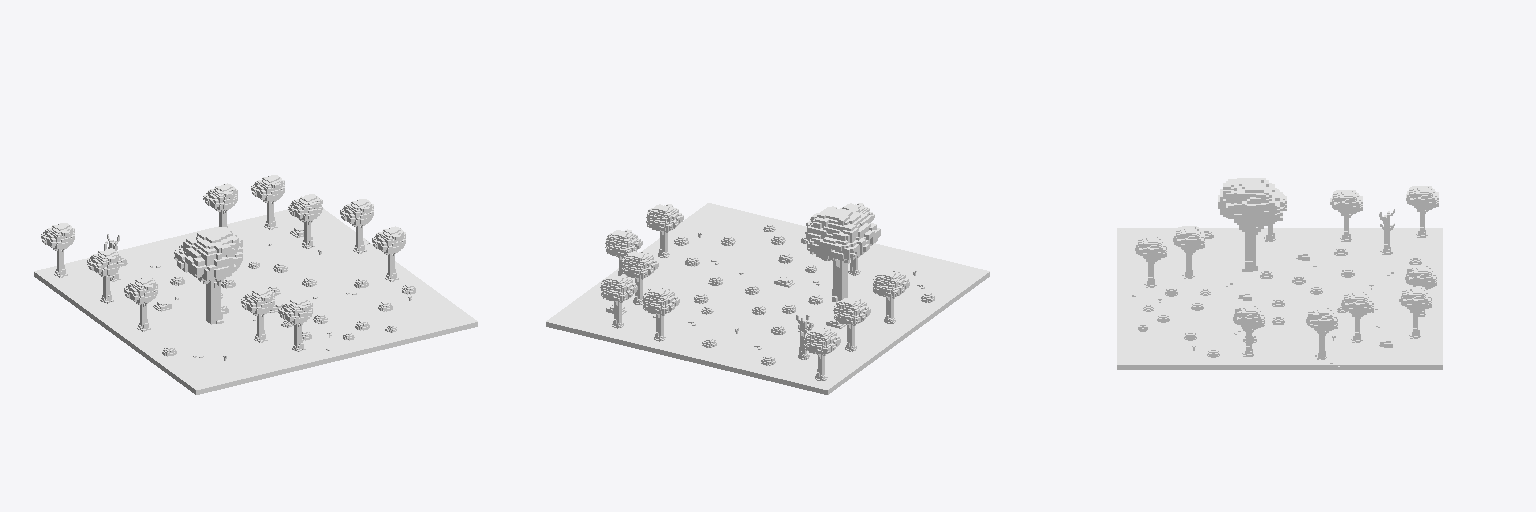
The model's file is bosque2full.obj.
3 views of the same model, side by side, from view 1: azimuth 30°, elevation 25°; view 2: azimuth 150°, elevation 25°; view 3: azimuth 270°, elevation 25° (orthographic).
Visible parts, largest first — view 1: object 1; view 2: object 1; view 3: object 1.
Part boxes in pixels (x1,y1,x2,y2): object 1: (34,175,477,394); object 1: (546,203,989,394); object 1: (1117,178,1442,369).
Bounding box in the file's own units: 24 × 7.4 × 24.